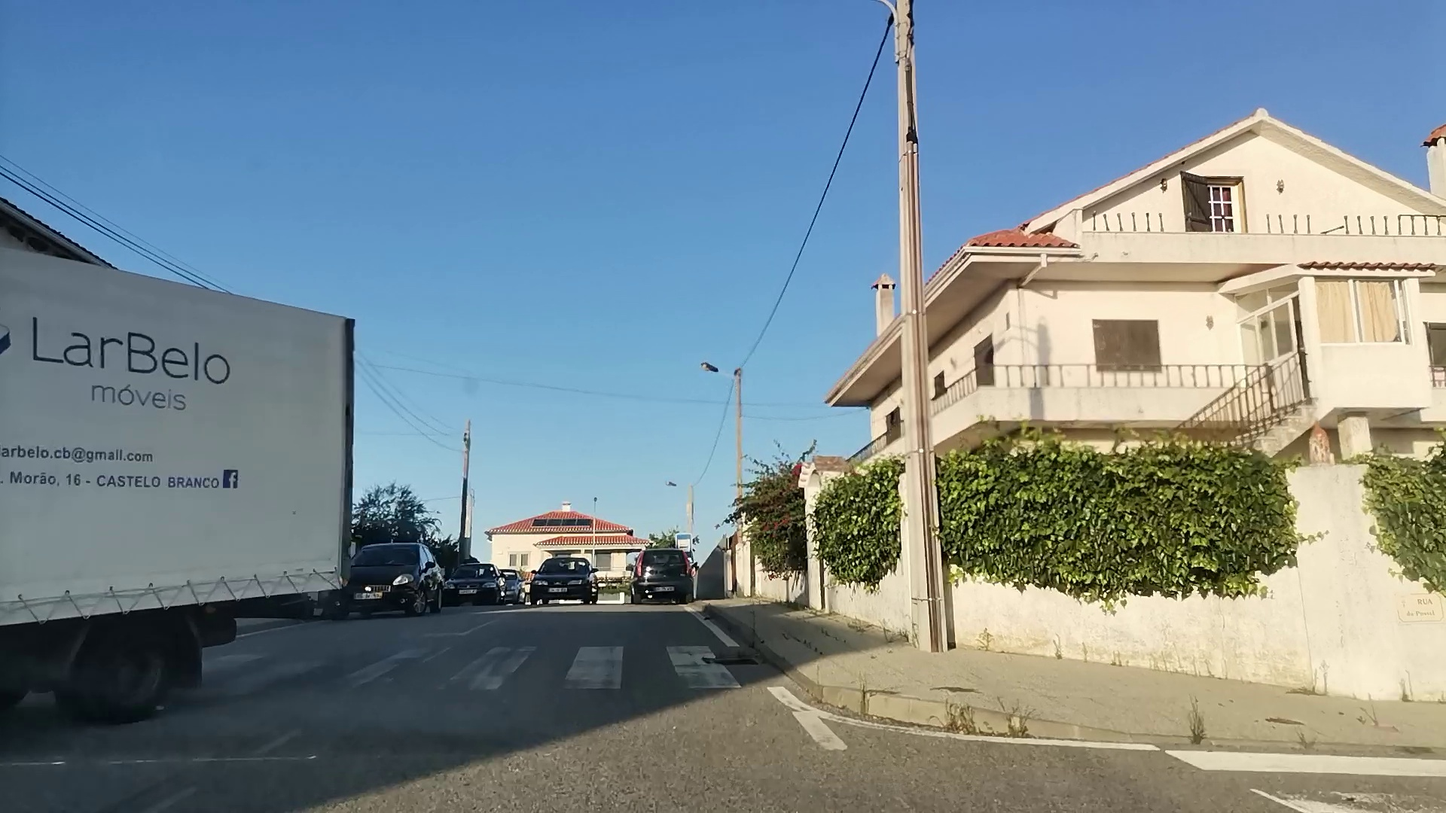Stairs: (336, 631, 783, 713)
